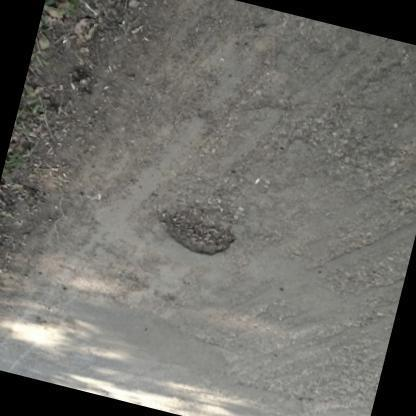pothole: (160, 206, 238, 258)
